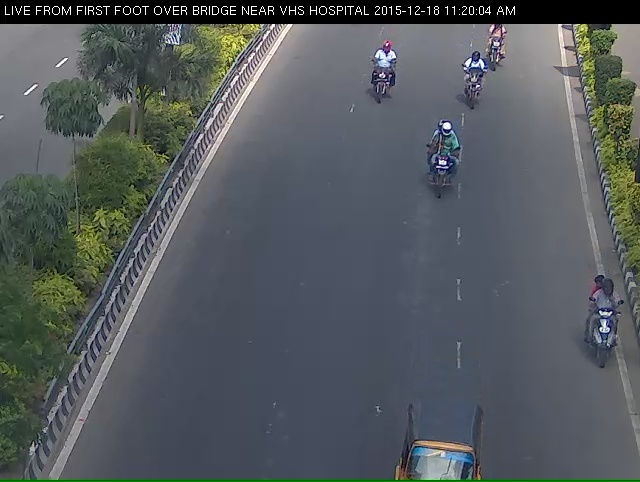Car: (395, 417, 484, 481)
Person: (582, 278, 627, 372), (422, 124, 470, 205), (358, 45, 404, 110), (458, 57, 488, 115), (480, 22, 513, 74)
